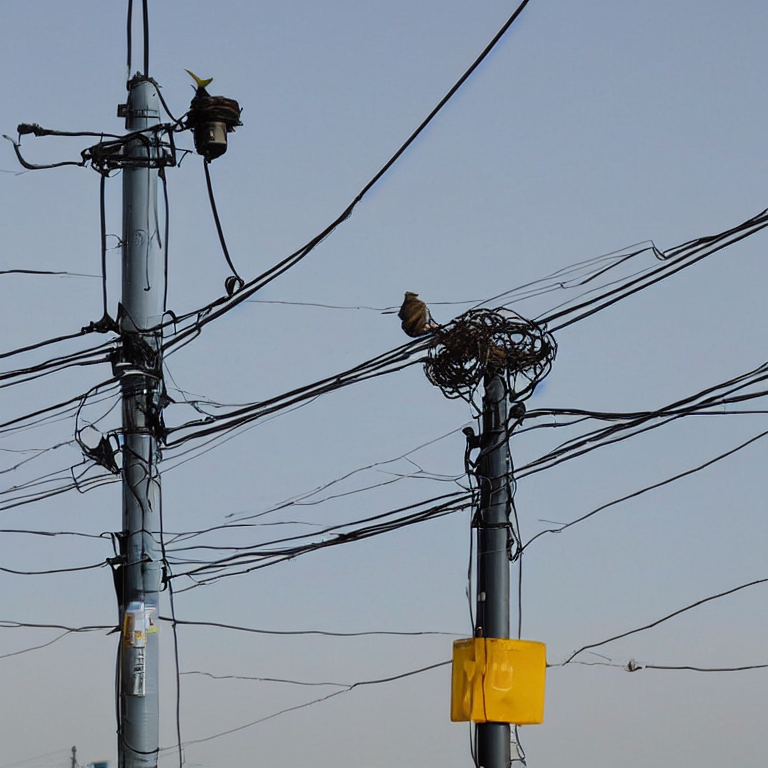nest: (428, 313, 544, 385)
